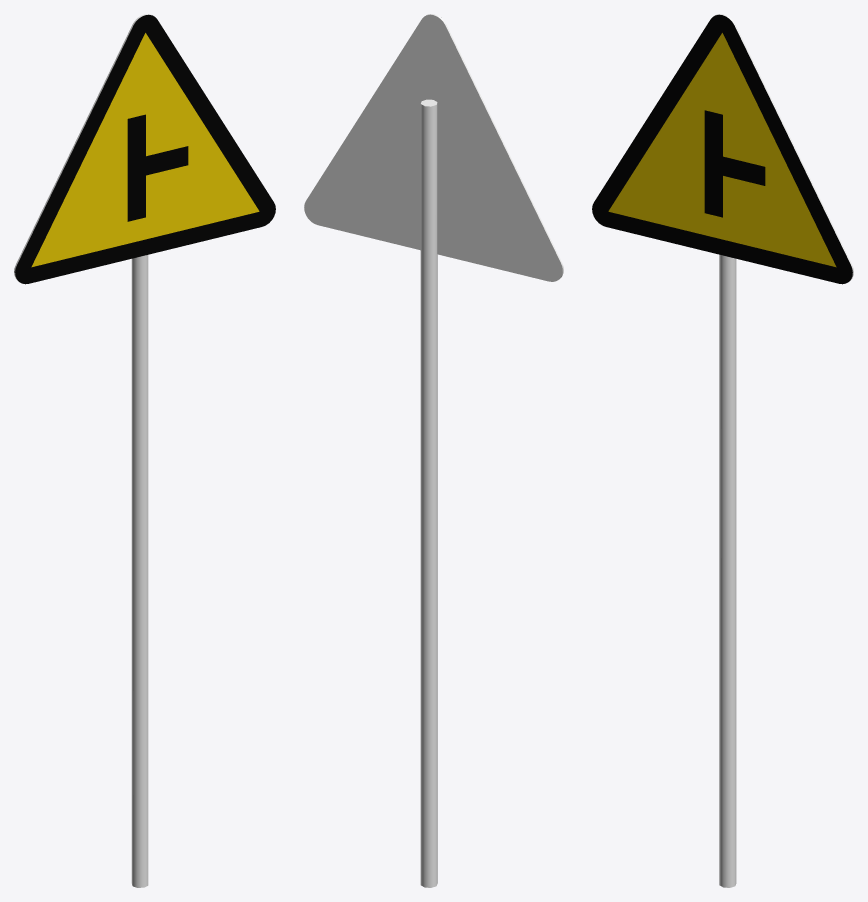
3 views of the same model, side by side, from view 1: azimuth 30°, elevation 25°; view 2: azimuth 150°, elevation 25°; view 3: azimuth 330°, elevation 25° (orthographic).
Visible parts, largest first — view 1: WO; view 2: WO; view 3: WO.
Boxes of the visible parts, <box> form: WO: <box>14,14,275,887</box>; WO: <box>304,14,563,887</box>; WO: <box>592,14,853,887</box>.
Bounding box in the file's own units: 5.68 × 18.17 × 0.3685.
